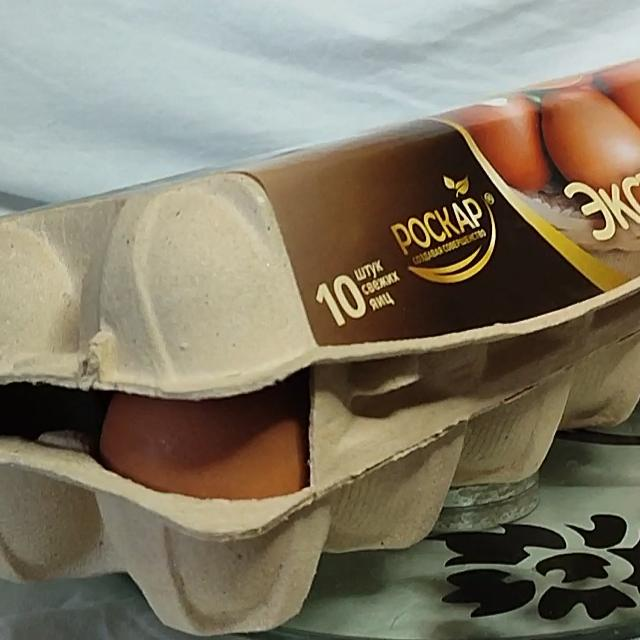egg: (0, 36, 640, 618)
